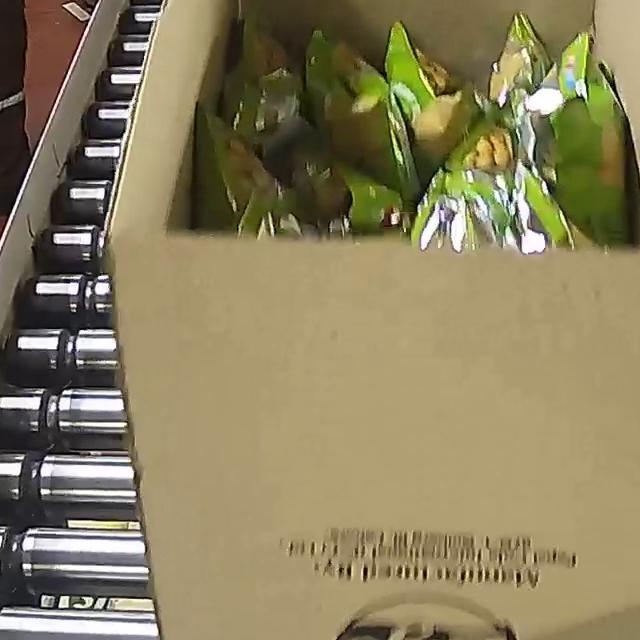yogurt: (230, 0, 640, 270)
